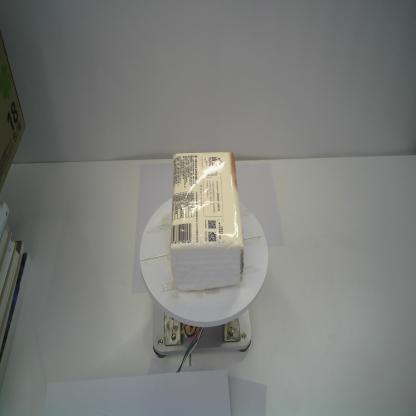Tissue: (169, 151, 244, 292)
